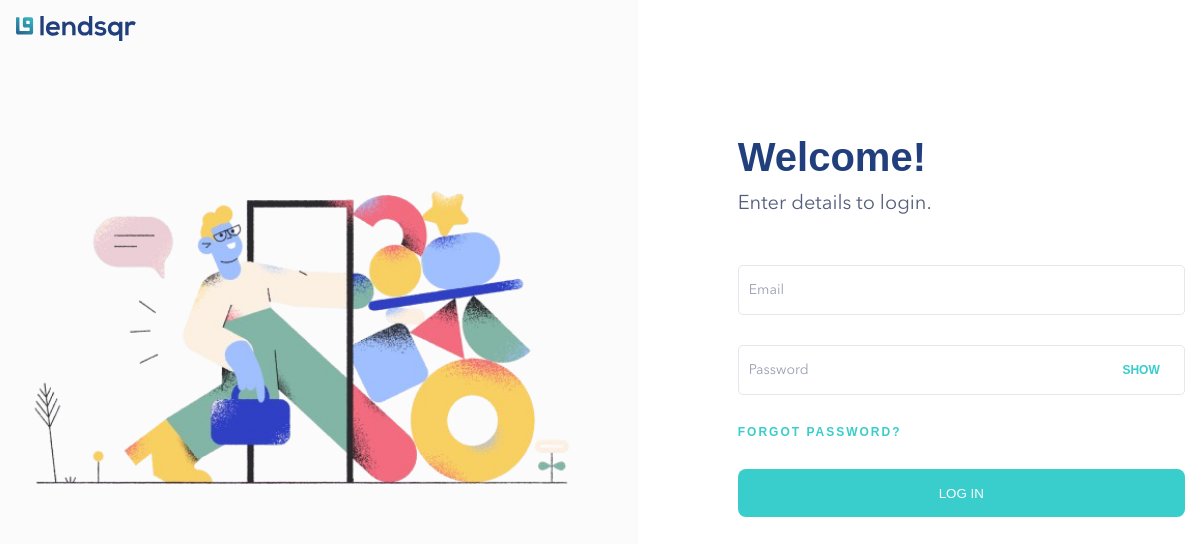
Test: Login Component › shows error when password is too short
The image size is (1202, 544).
In the password field with placeholder "Password": (961, 370) x1=738 y1=345 x2=1185 y2=395, type "123"
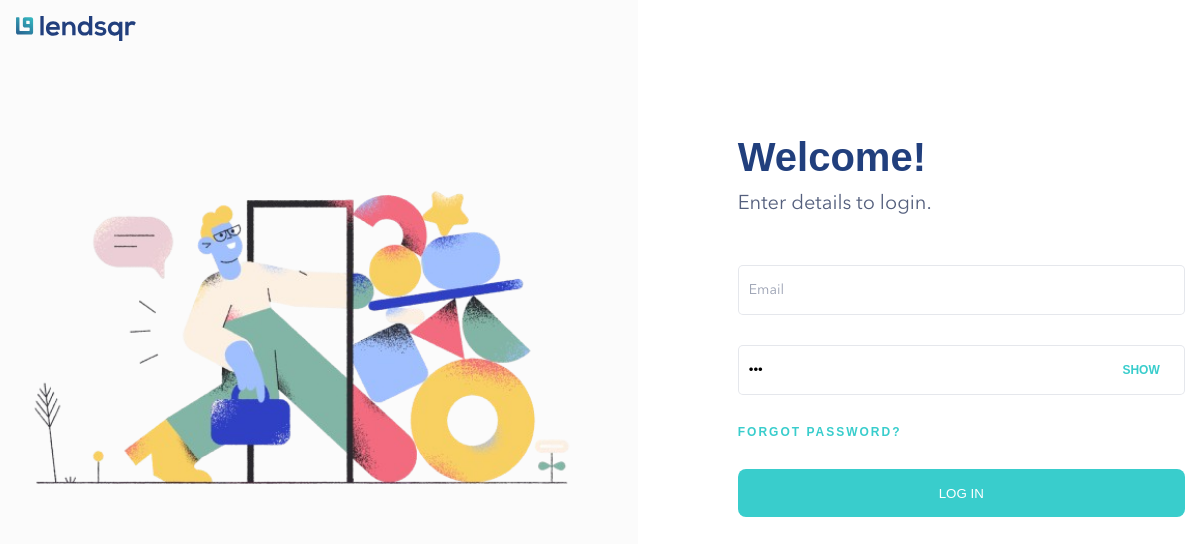
Click the button "LOG IN": (961, 493) x1=738 y1=469 x2=1185 y2=517
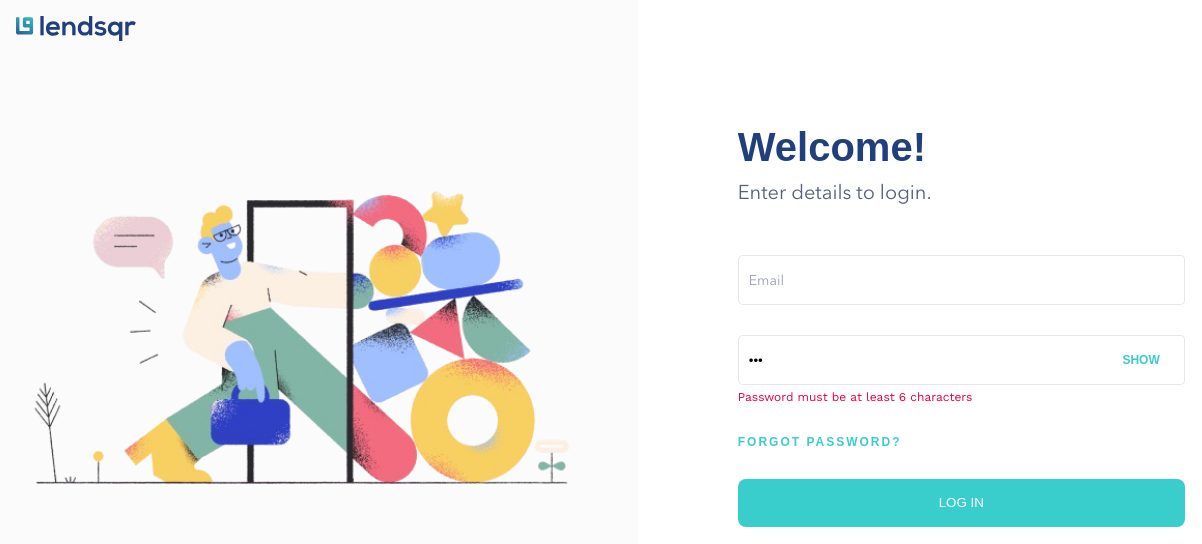
Result: the text "Password must be at least 6 characters" is shown at x1=738 y1=390 x2=972 y2=404
